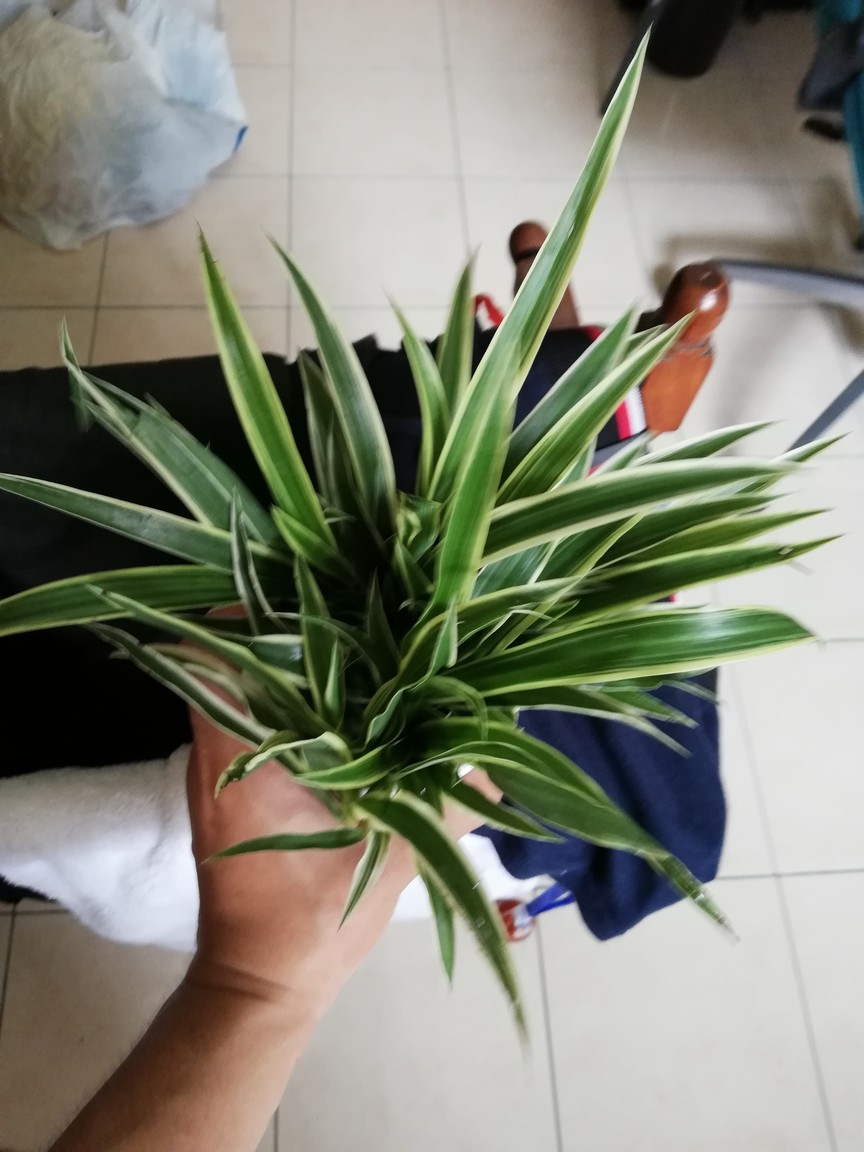daun: (535, 27, 653, 289), (187, 211, 265, 403), (379, 272, 445, 441), (654, 847, 756, 956), (262, 223, 350, 339), (325, 834, 401, 939), (442, 235, 487, 397), (182, 822, 342, 865), (740, 528, 850, 584), (626, 310, 702, 384), (476, 797, 566, 859), (227, 482, 270, 609), (282, 326, 332, 432), (684, 411, 791, 458), (694, 485, 798, 531), (264, 498, 328, 565), (592, 295, 647, 371), (82, 578, 177, 619), (426, 889, 460, 1003), (288, 753, 391, 790), (734, 504, 842, 539), (598, 419, 660, 471), (426, 590, 459, 683), (641, 720, 692, 778), (640, 697, 698, 739), (789, 426, 857, 461), (670, 677, 739, 711), (620, 320, 670, 356)
